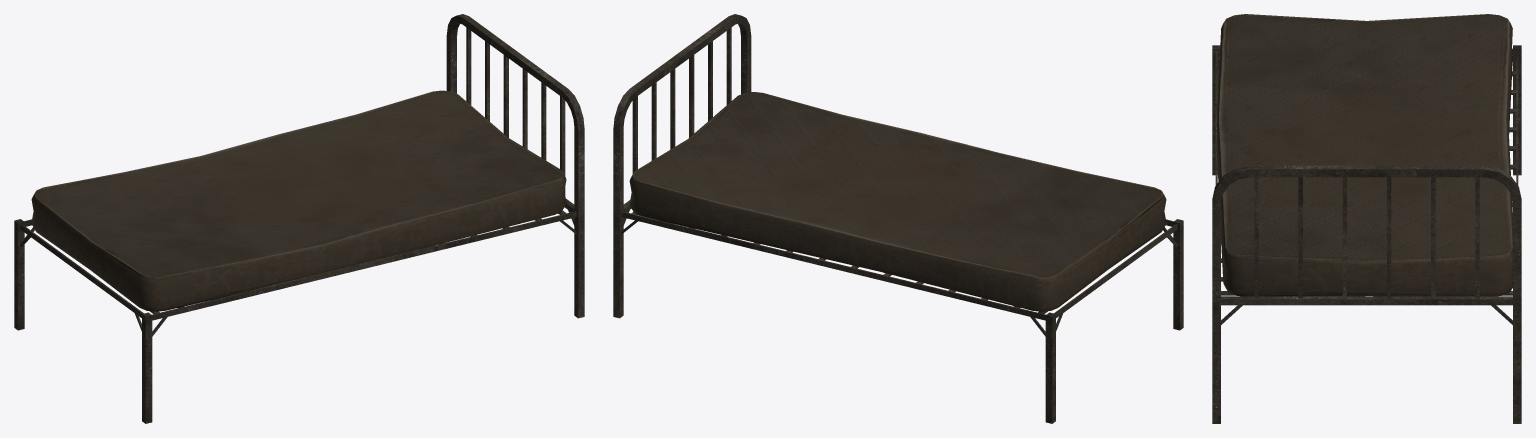
The model's file is bed_1.dae.
3 renders of one model, left to right at view 1: azimuth 30°, elevation 25°; view 2: azimuth 150°, elevation 25°; view 3: azimuth 270°, elevation 25°, orthographic. The views are drawn at different scales.
Parts seen in each view (by area): view 1: bed_1; view 2: bed_1; view 3: bed_1.
Part boxes in pixels (box(x1,y1,x2,y2)): bed_1: box(14, 14, 584, 423); bed_1: box(613, 14, 1183, 423); bed_1: box(1212, 14, 1521, 423).
Size of the model in its own units: 2.7 by 1.4 by 1.27.
2 materials, 2 textured.
